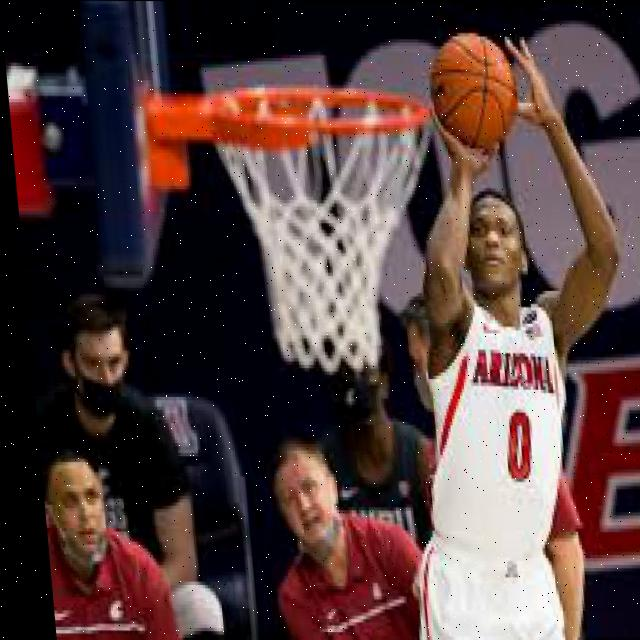basketball: (425, 30, 522, 143)
hoop: (197, 83, 459, 382)
